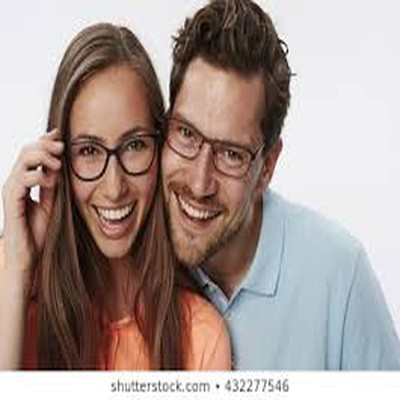eywear: (162, 86, 258, 185), (68, 122, 174, 179)
